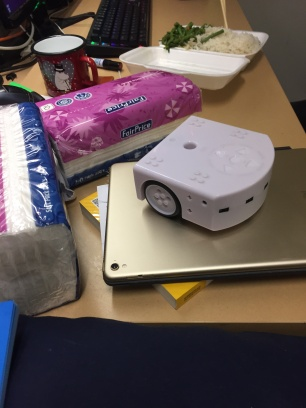thymio: (132, 113, 277, 230)
